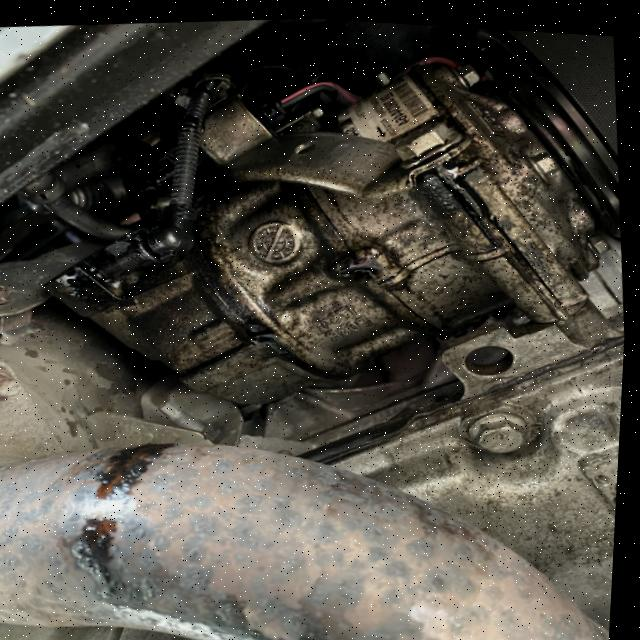corrosion: (40, 173, 214, 335), (66, 434, 181, 595), (305, 214, 406, 313), (423, 150, 497, 245)
